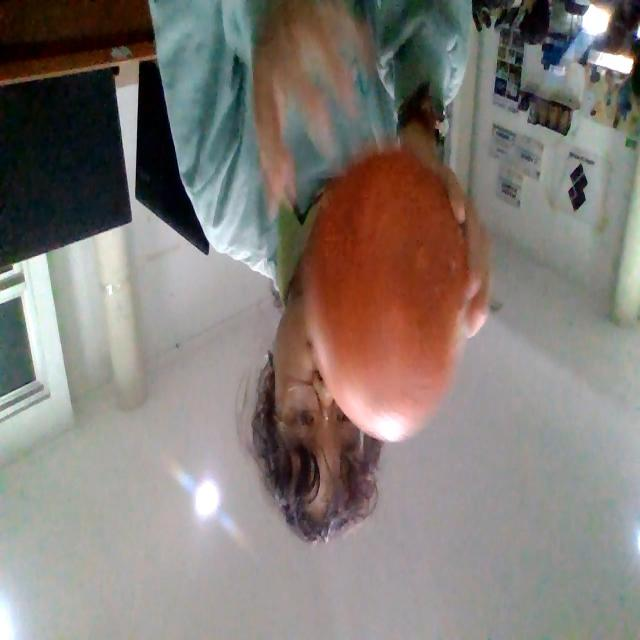ball: (313, 156, 461, 438)
